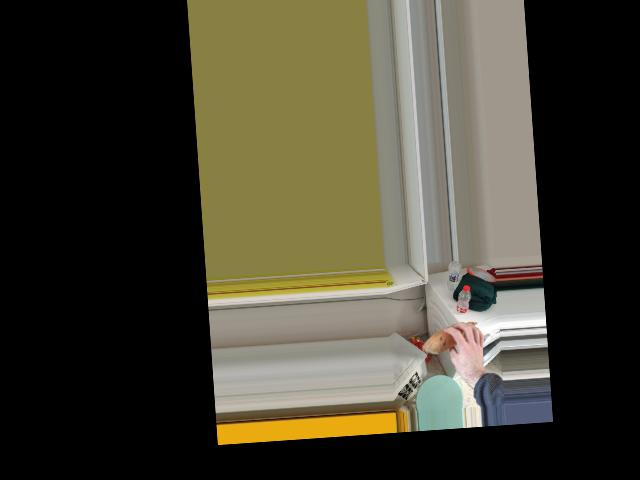sweet_potato: (426, 321, 480, 350)
